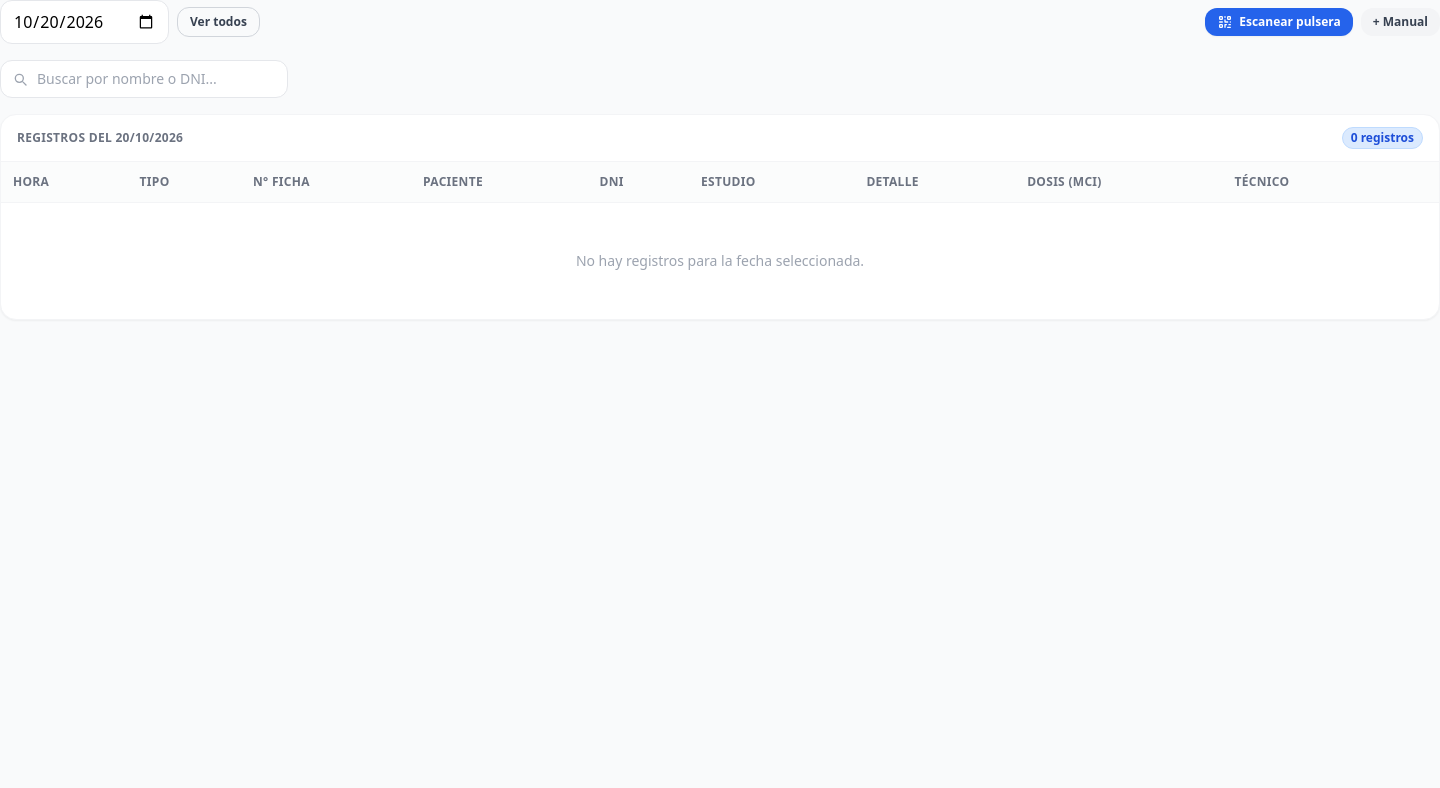
Test: TabPacientes -- Peso/Talla ausentes para I-131, presentes para Tc-99m › Tc-99m (caso por defecto, sin tocar el toggle): Peso y Talla siguen visibles
This screenshot has width=1440, height=788.
Click the button "+ Manual": (1400, 22) [1361,8,1439,36]
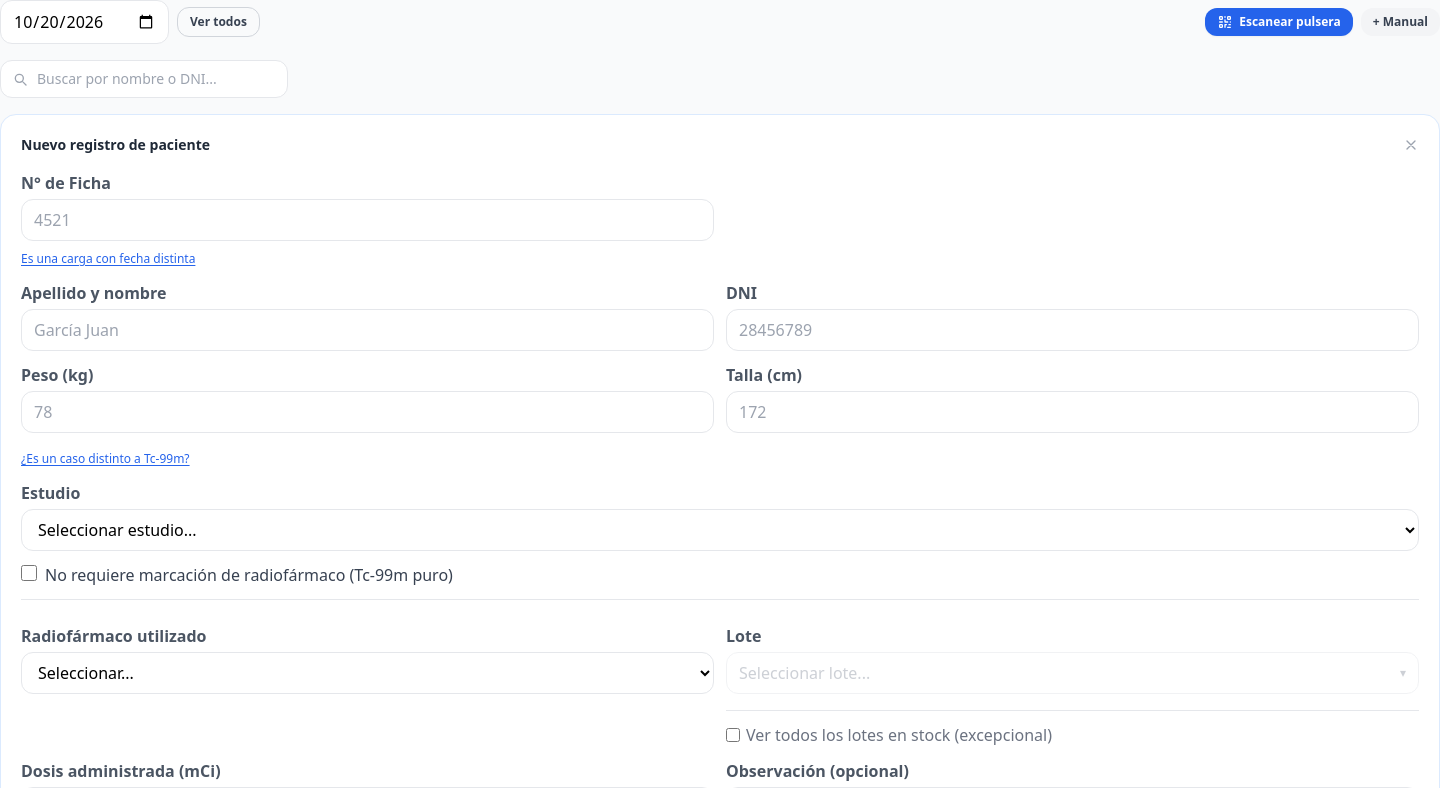
Expected: the text "Peso (kg)" is shown, [21,364,93,386]
Expected: the text "Talla (cm)" is shown, [726,364,802,386]
